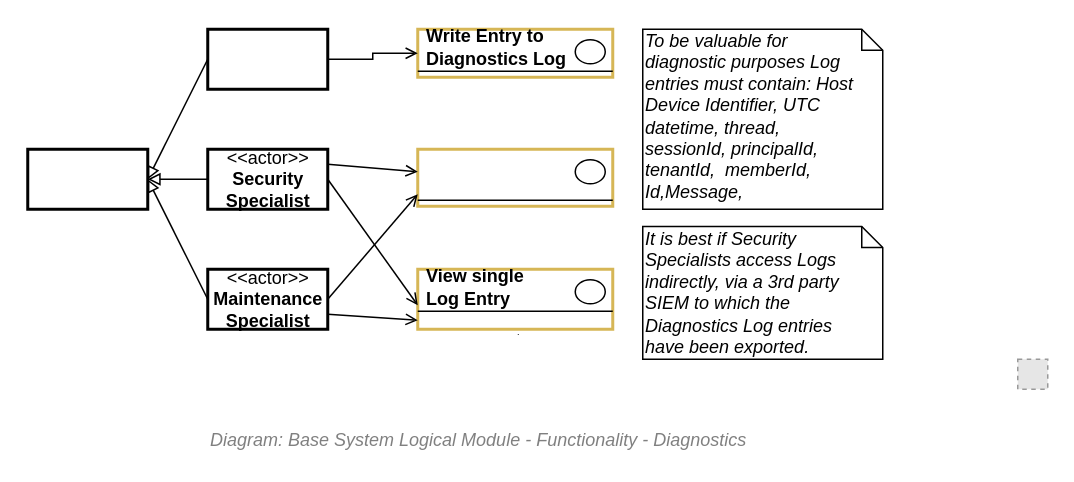
The diagram is 1074 pixels wide and 482 high, and some of its shapes have lost their labels. Grey dashed boxes stand in for pictures. The shapes that lost their labels are listed below. From the top down, each one's centre as x and y in pixels, then its label:
(267,58): <<actor>> Daemon
(87,178): <<actor>> authorised user
(515,177): Retrieve Paged, Filtered List of SummaryItems of Log Entries
